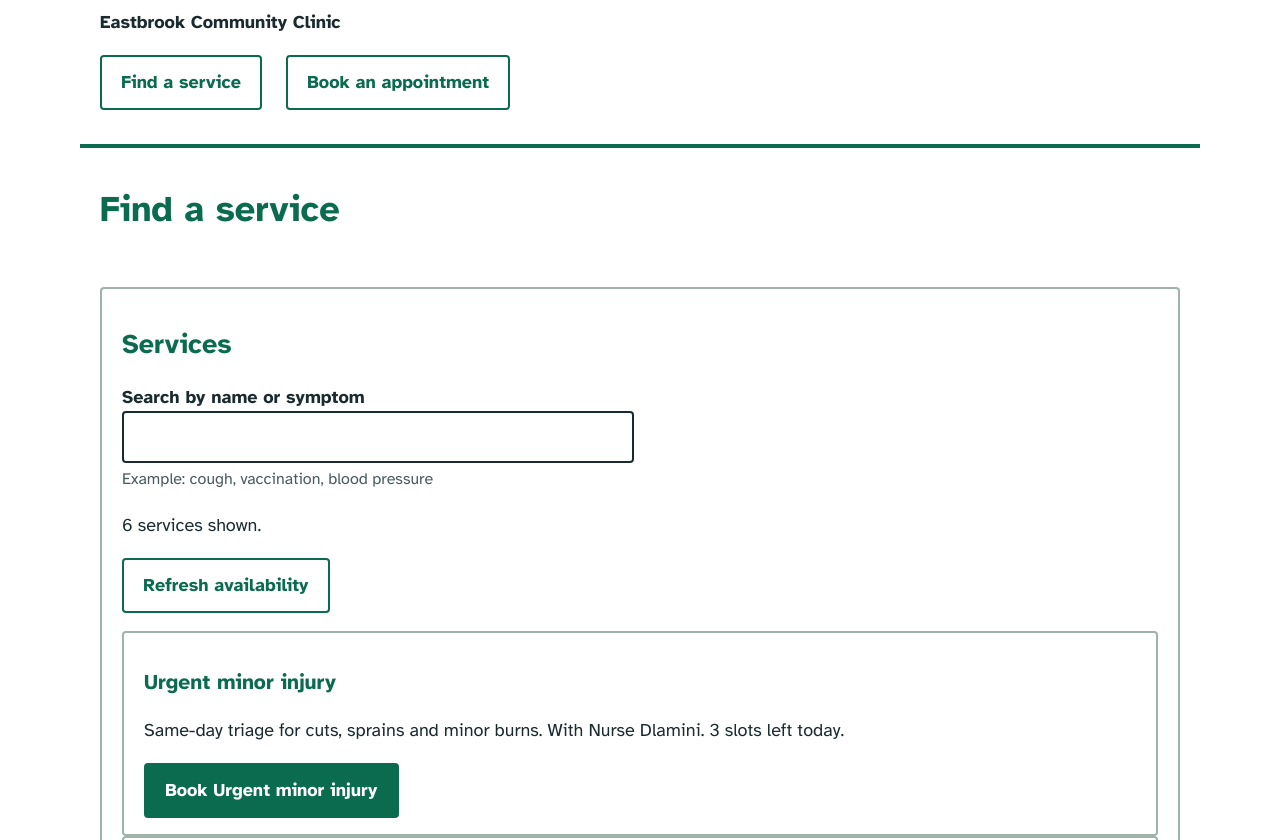
it: booking form: errors linked, announced, focused; passes axe
This screenshot has width=1280, height=840.
Click the button "Book an appointment".
click(398, 82)  # box left=286, top=55, right=510, bottom=110
(page scrolled)
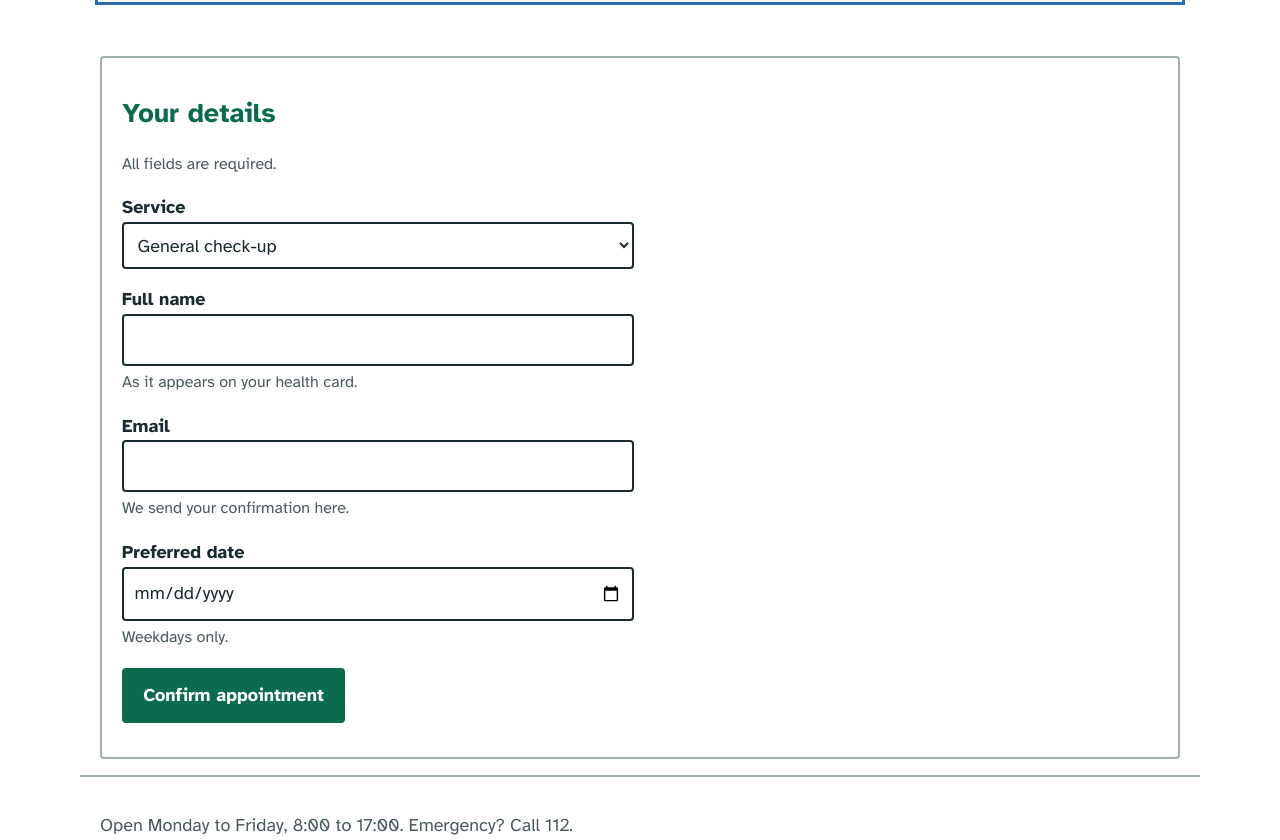
Click the button "Confirm appointment".
click(234, 696)  # box left=122, top=668, right=345, bottom=724
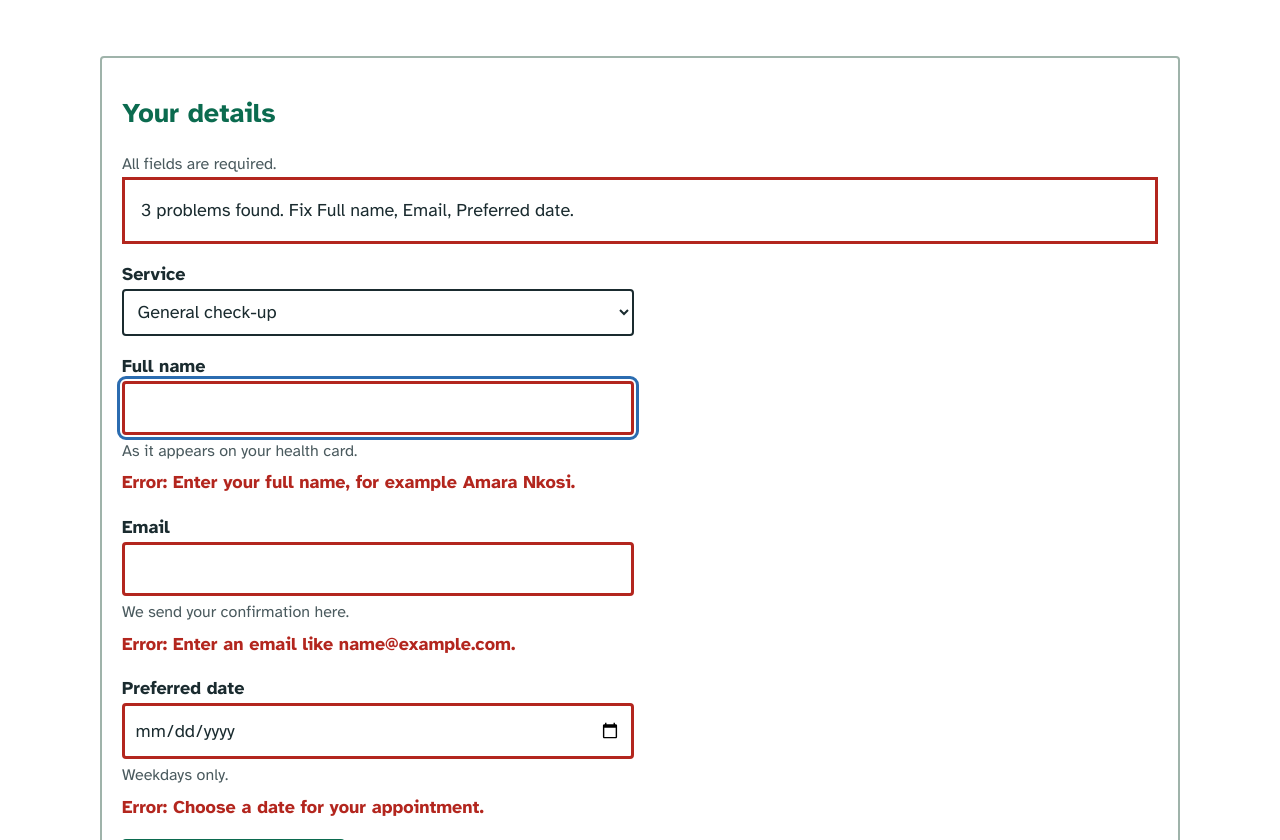
Expected: the message shows "3 problems found", left=141, top=199, right=574, bottom=221
